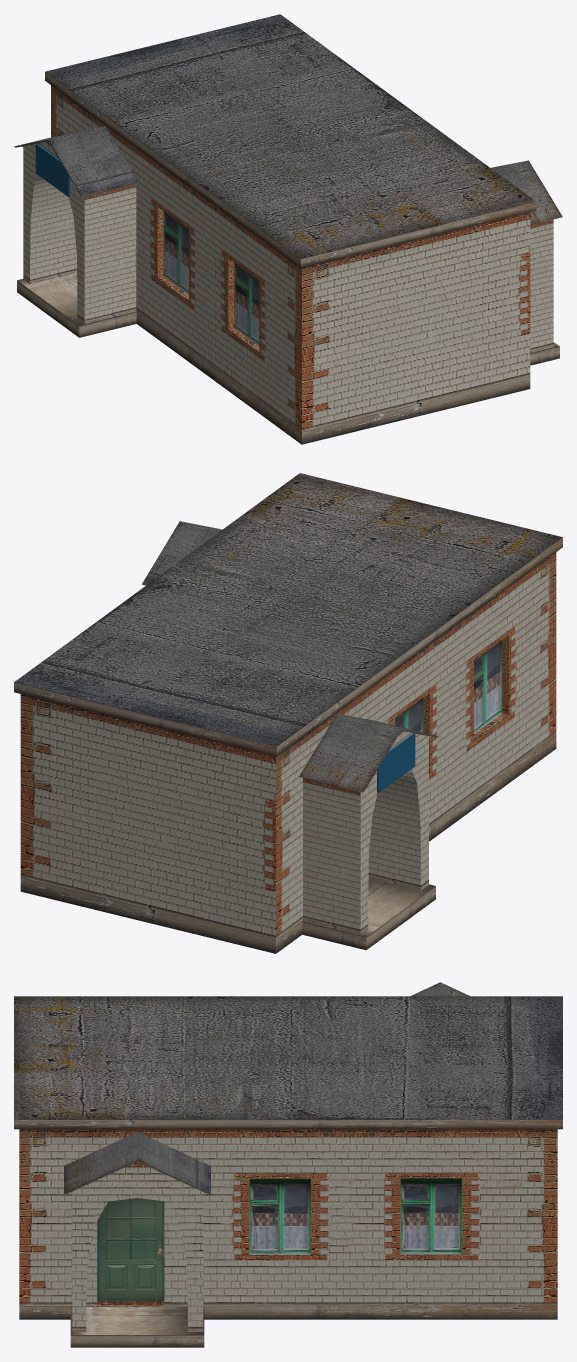
The model's file is r402_ishim_gazprom_proh.FBX.
3 views of the same model, one above another, from view 1: azimuth 30°, elevation 25°; view 2: azimuth 150°, elevation 25°; view 3: azimuth 270°, elevation 25° (orthographic). The views are drawn at different scales.
Parts seen in each view (by area): view 1: r402_ishim_gazprom_proh; view 2: r402_ishim_gazprom_proh; view 3: r402_ishim_gazprom_proh.
Boxes of the visible parts, <box> form: r402_ishim_gazprom_proh: <box>14,14,562,444</box>; r402_ishim_gazprom_proh: <box>14,473,562,953</box>; r402_ishim_gazprom_proh: <box>14,982,562,1347</box>.
Bounding box in the file's own units: 594 × 776 × 315.
